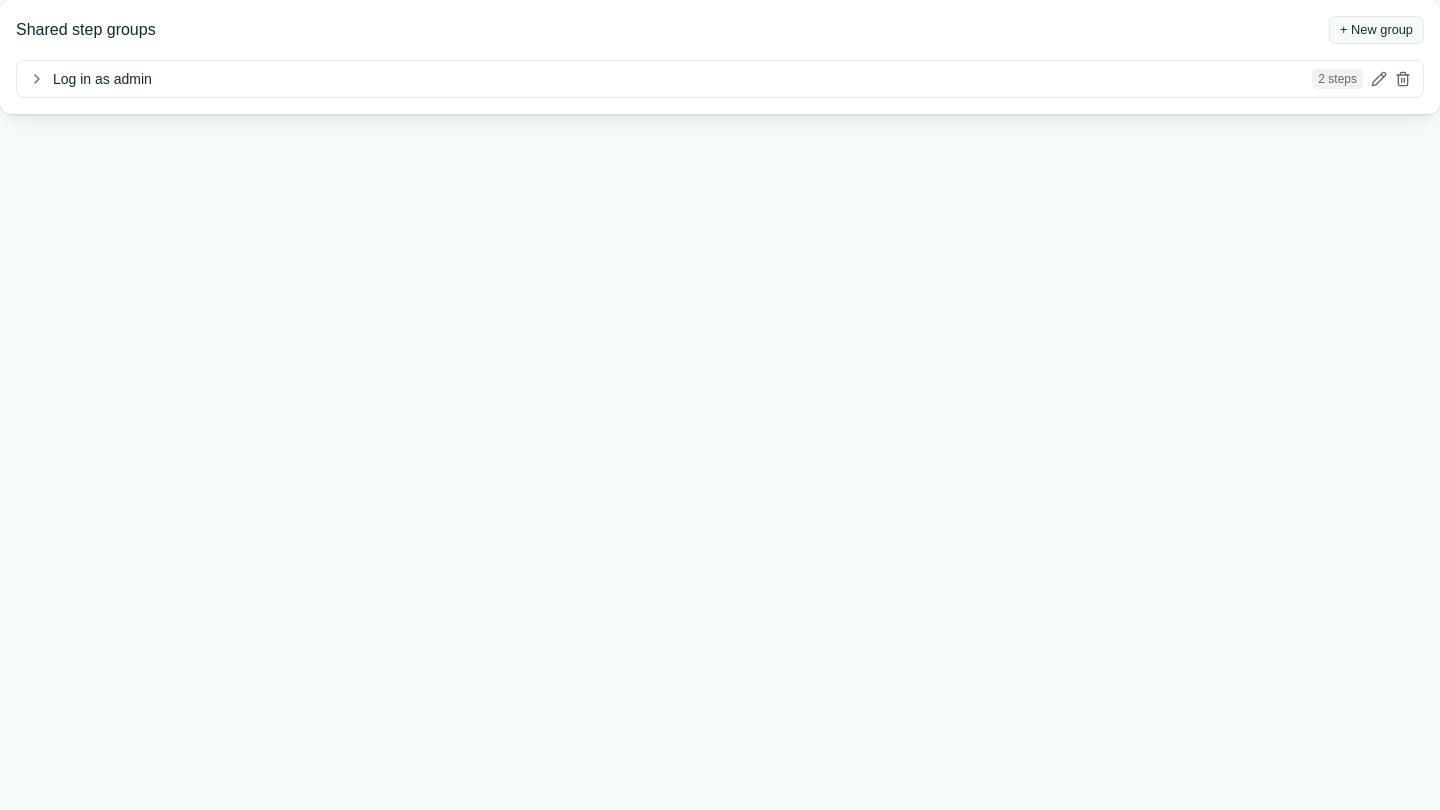
it: StepGroupsCard › expanding a row shows its steps in a bare (no extra Card) editor
Step 1. Click the button "Log in as admin" → (102, 79), box [53,69,1304,89]
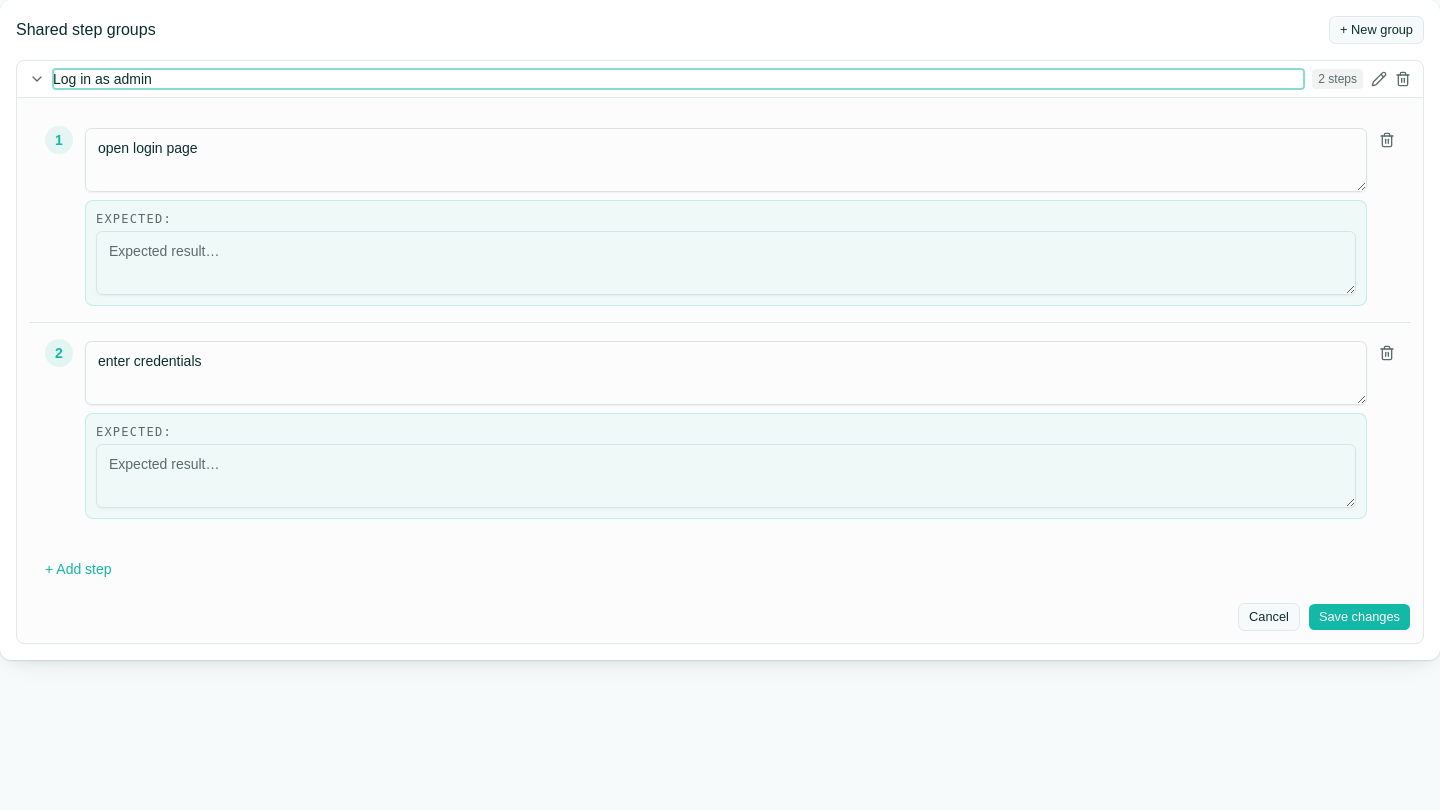
Check: the text box showing "open login page" is shown, box [85,128,1367,192]
Check: the text box showing "enter credentials" is shown, box [85,341,1367,405]
